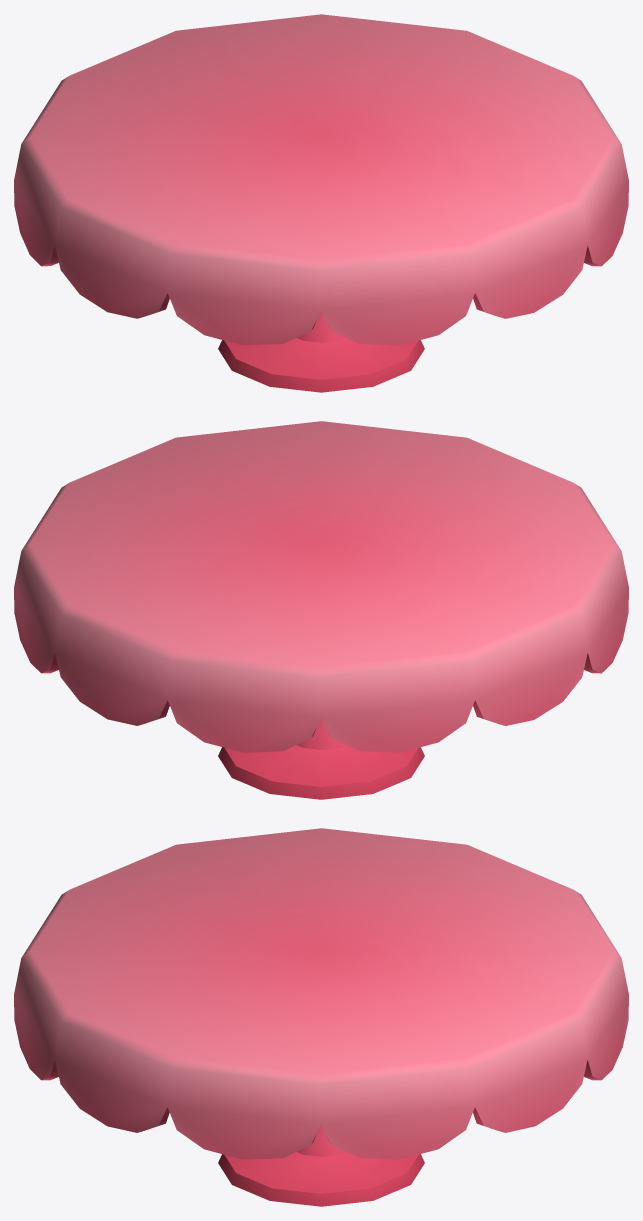
The model's file is m_CakeStand02.fbx.
3 views of the same model, one above another, from view 1: azimuth 30°, elevation 25°; view 2: azimuth 150°, elevation 25°; view 3: azimuth 270°, elevation 25° (orthographic).
Visible parts, largest first — view 1: m_CakeStand02; view 2: m_CakeStand02; view 3: m_CakeStand02.
Boxes of the visible parts, x1,y1,x2,y2 form: m_CakeStand02: [14, 14, 628, 392]; m_CakeStand02: [14, 421, 628, 799]; m_CakeStand02: [14, 828, 628, 1206].
Size of the model in its own units: 34.21 by 13 by 34.21.
